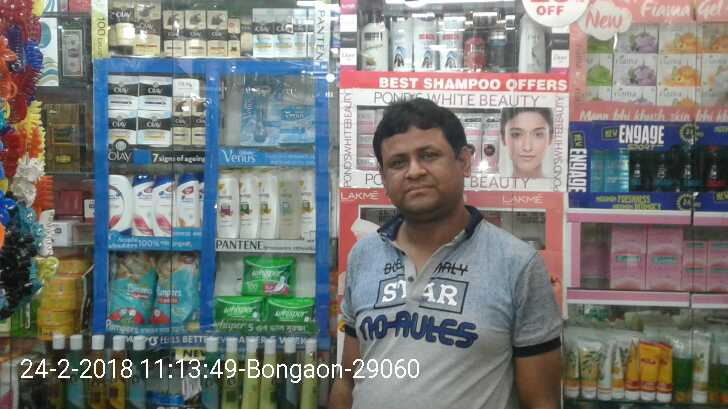venus: (242, 77, 278, 145), (278, 105, 314, 145)
